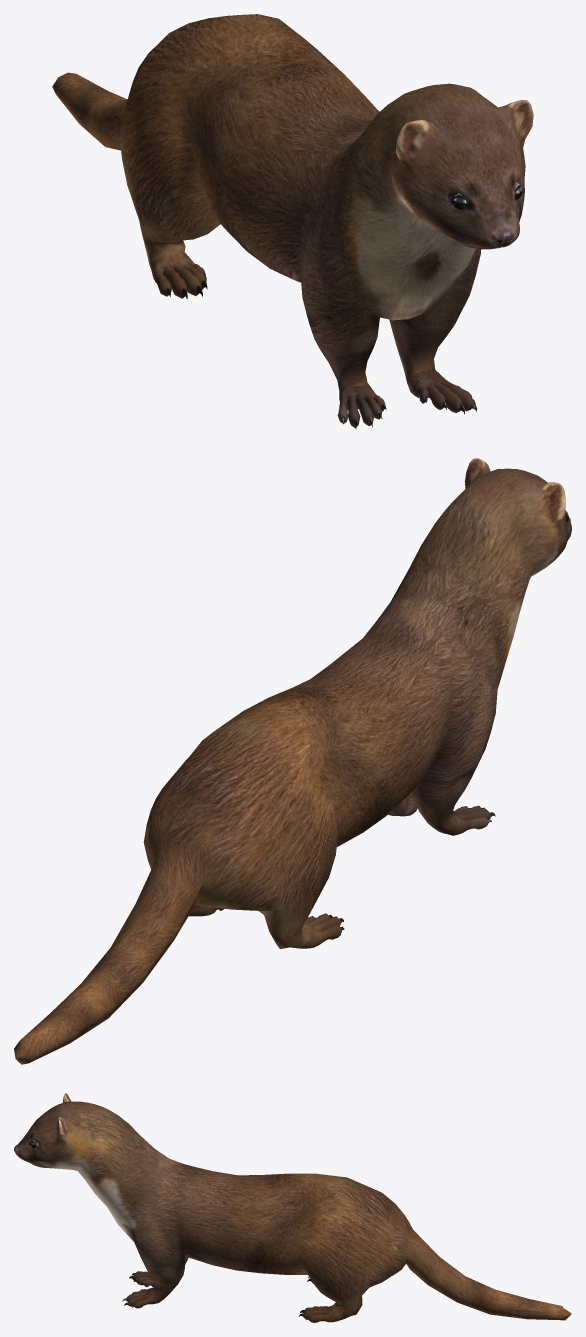
Rendered from Animal.glb.
3 views of the same model, one above another, from view 1: azimuth 30°, elevation 25°; view 2: azimuth 150°, elevation 25°; view 3: azimuth 270°, elevation 25° (orthographic). The views are drawn at different scales.
Parts seen in each view (by area): view 1: Martens; view 2: Martens; view 3: Martens.
Part boxes in pixels (x1,y1,x2,y2): Martens: (52,14,533,429); Martens: (14,458,571,1064); Martens: (14,1093,571,1322).
Bounding box in the file's own units: 0.2642 × 0.4551 × 1.2.
Materials: 1 (1 with a texture image).
